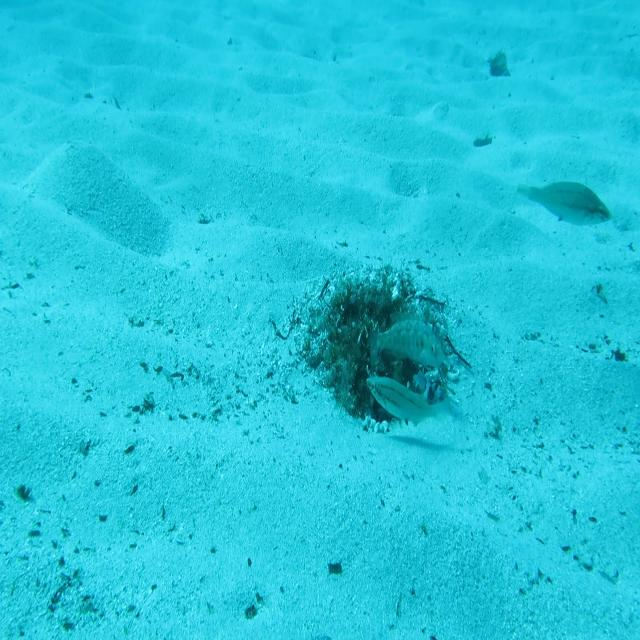DAN_CIRC: (369, 311, 448, 377)
core_nest: (349, 291, 399, 327)
female: (365, 373, 452, 434), (516, 177, 612, 228)
nest: (292, 253, 462, 440)
vegetation: (488, 48, 512, 82), (472, 134, 494, 152), (327, 557, 344, 576)
